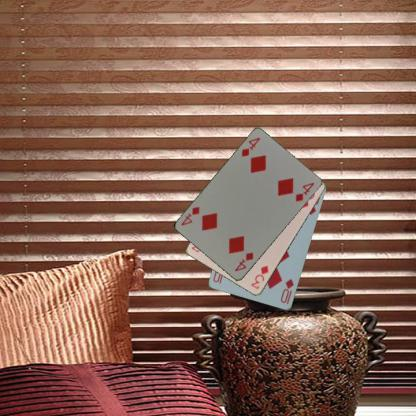10d: (278, 276, 295, 306)
3d: (248, 263, 270, 291)
4d: (232, 250, 254, 272), (239, 136, 261, 158)
